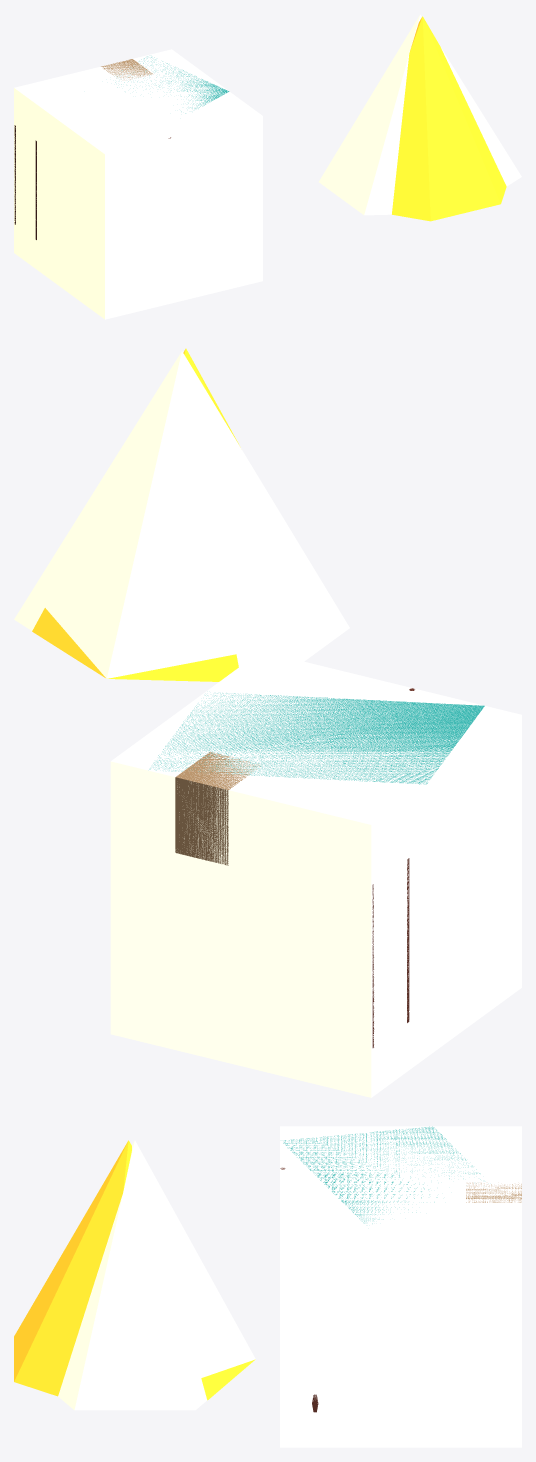
The model's file is ile-moussaillons.glb.
3 renders of one model, top to bottom at view 1: azimuth 30°, elevation 25°; view 2: azimuth 150°, elevation 25°; view 3: azimuth 270°, elevation 25°, orthographic. The views are drawn at different scales.
Visible parts, largest first — view 1: moussaillons_decor, moussaillons_feu; view 2: moussaillons_decor, moussaillons_feu; view 3: moussaillons_decor, moussaillons_feu.
Boxes of the visible parts, x1,y1,x2,y2 form: moussaillons_decor: [14, 49, 262, 319]; moussaillons_feu: [319, 14, 521, 221]; moussaillons_decor: [110, 651, 521, 1097]; moussaillons_feu: [14, 348, 349, 681]; moussaillons_decor: [280, 1126, 521, 1447]; moussaillons_feu: [14, 1140, 255, 1410].
Bounding box in the file's own units: 4.3 × 3.41 × 4.2.
